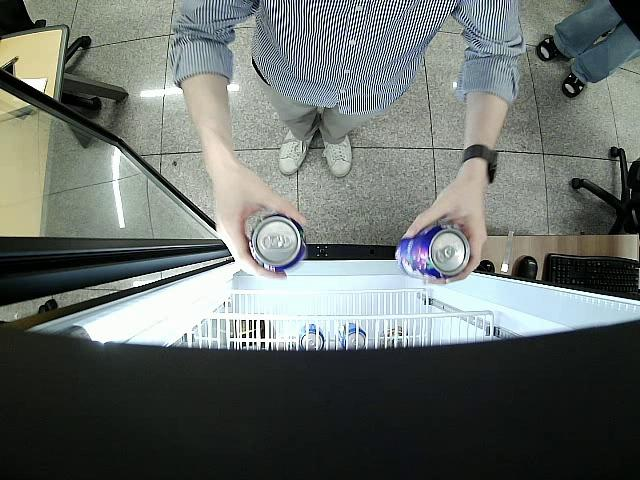00_hand: (209, 163, 309, 284), (406, 186, 487, 287)
14_welchsGrape: (391, 222, 473, 279), (245, 210, 308, 274)
